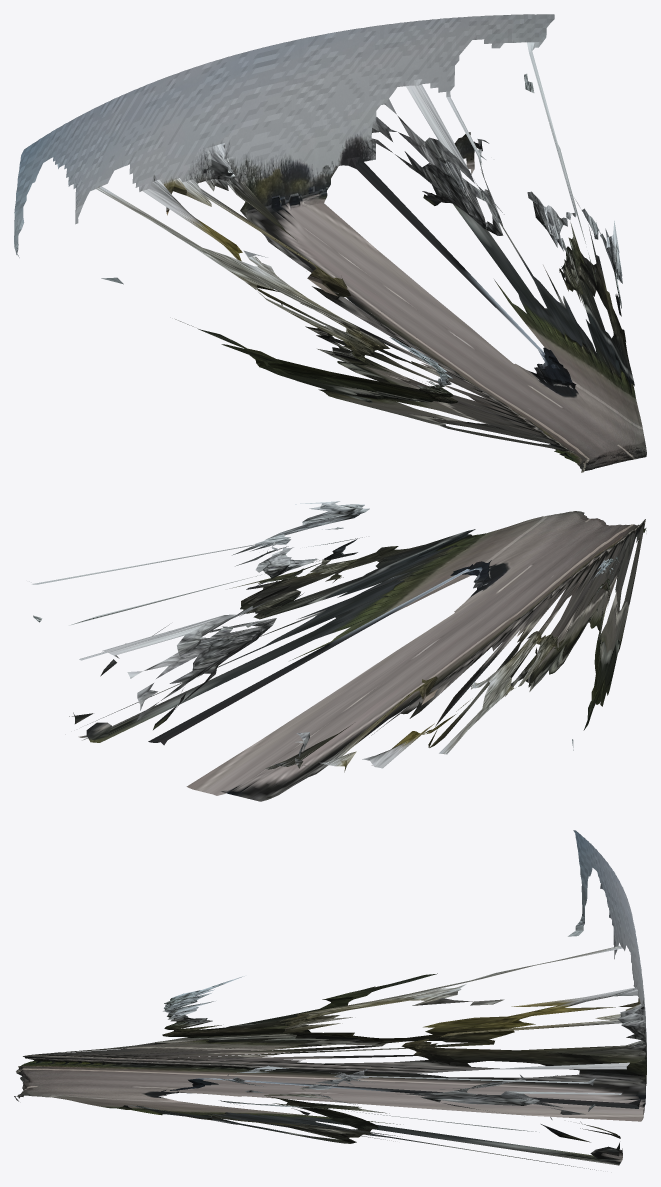
3 views of the same model, one above another, from view 1: azimuth 30°, elevation 25°; view 2: azimuth 150°, elevation 25°; view 3: azimuth 270°, elevation 25° (orthographic). The views are drawn at different scales.
Visible parts, largest first — view 1: defaultobject; view 2: defaultobject; view 3: defaultobject.
Boxes of the visible parts, left/top/right/bottom form: defaultobject: left=14, top=14, right=646, bottom=472; defaultobject: left=29, top=501, right=646, bottom=801; defaultobject: left=14, top=830, right=646, bottom=1170.
Bounding box in the file's own units: 39.31 × 12.09 × 44.71.
Materials: 1 (1 with a texture image).
